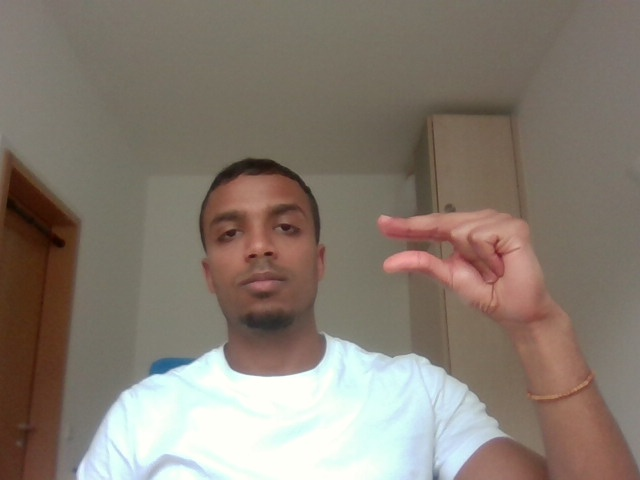never: (363, 186, 587, 347)
